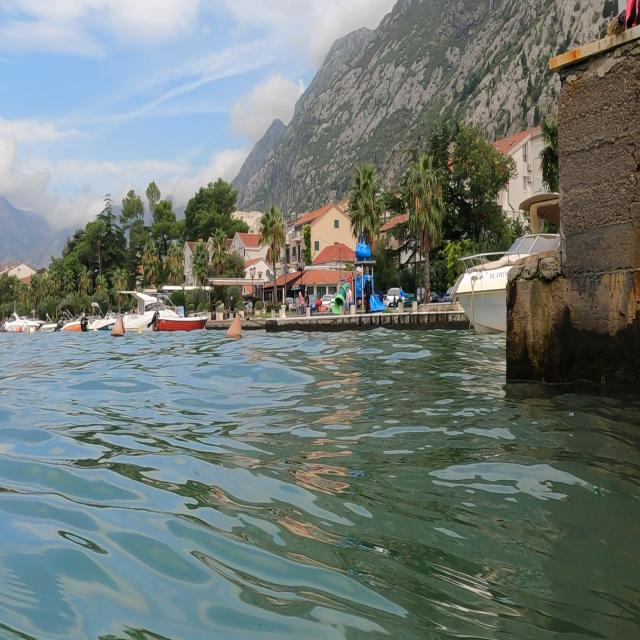boat: (113, 281, 214, 340)
buoy: (221, 308, 249, 347), (110, 312, 130, 340)
